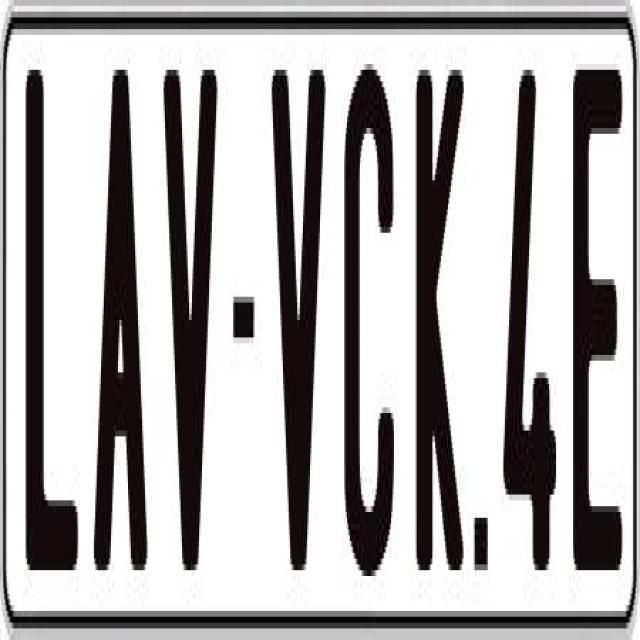4: (502, 70, 558, 570)
A: (94, 64, 148, 582)
C: (340, 52, 396, 570)
E: (570, 52, 618, 558)
K: (416, 58, 470, 559)
L: (26, 70, 86, 594)
V: (162, 58, 218, 582), (272, 64, 328, 588)
